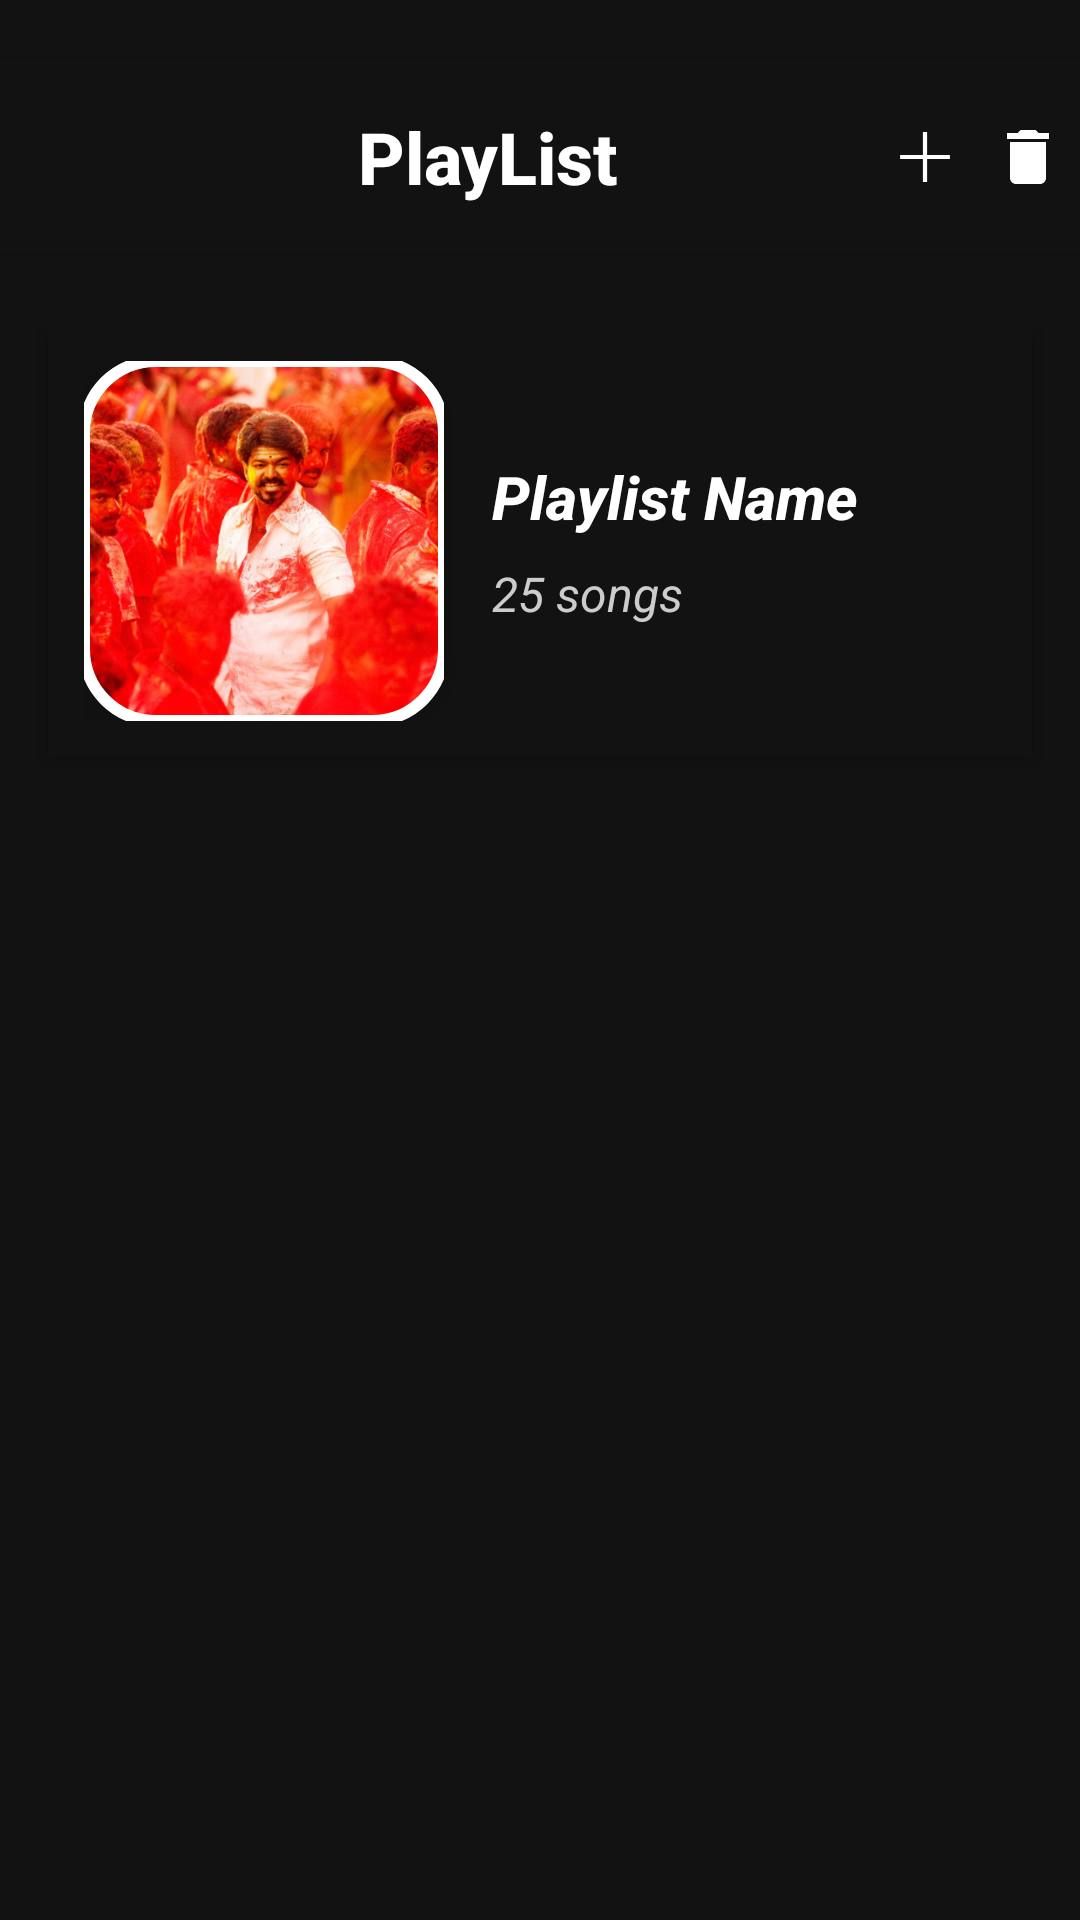

Named icons in this screenshot (1080px×1920px) and their bounding boxes, box=[x1, y1, x2, y2]:
delete: box=[1007, 130, 1049, 184]
plus: box=[900, 132, 950, 182]
